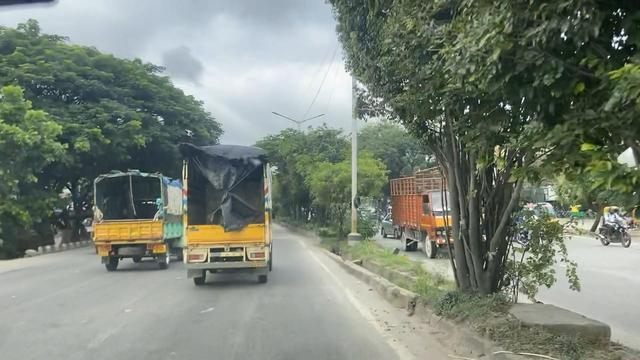HMV: (169, 127, 273, 295), (88, 164, 184, 275)
